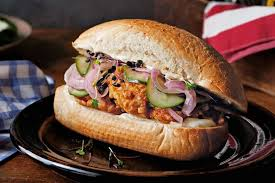sandwich: (45, 8, 251, 173)
